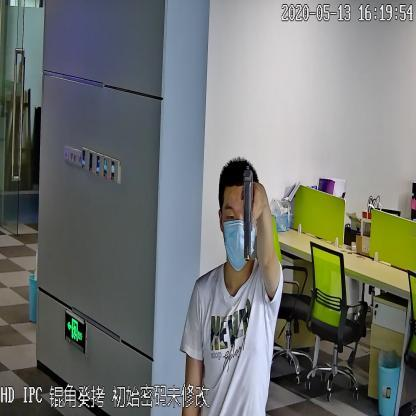gun: (241, 162, 258, 277)
